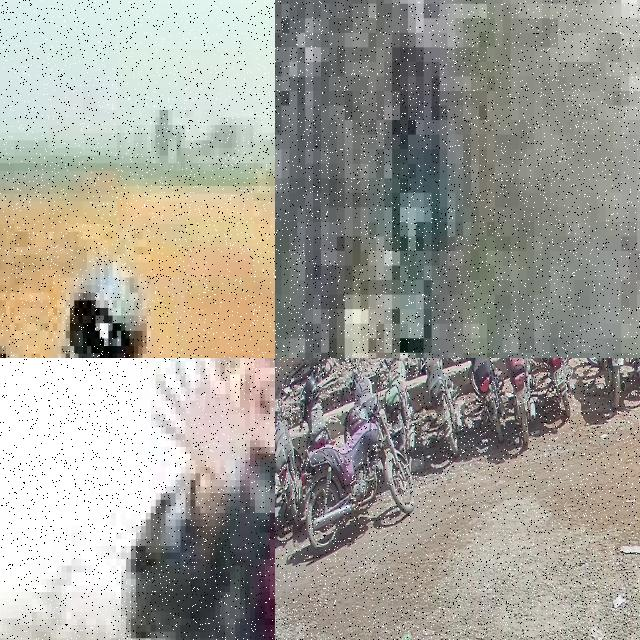bike: (300, 400, 416, 556), (275, 373, 303, 528), (418, 358, 462, 456), (375, 358, 414, 461), (463, 358, 505, 442), (298, 358, 330, 448), (503, 358, 535, 445), (528, 358, 575, 417), (580, 358, 625, 408), (348, 358, 377, 418)
